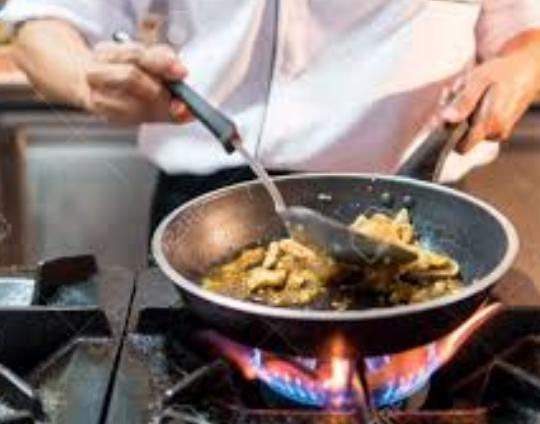controlled_fire: (207, 294, 518, 416)
